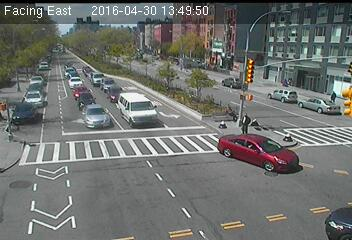neg: (247, 134, 280, 178), (275, 75, 300, 109), (125, 95, 149, 126), (229, 54, 251, 83), (41, 168, 62, 196), (146, 40, 166, 66), (193, 68, 212, 94), (4, 100, 22, 125), (81, 87, 98, 109), (23, 42, 37, 60), (226, 212, 240, 230), (103, 35, 116, 53)
pos: (236, 111, 254, 135), (330, 90, 340, 102)
